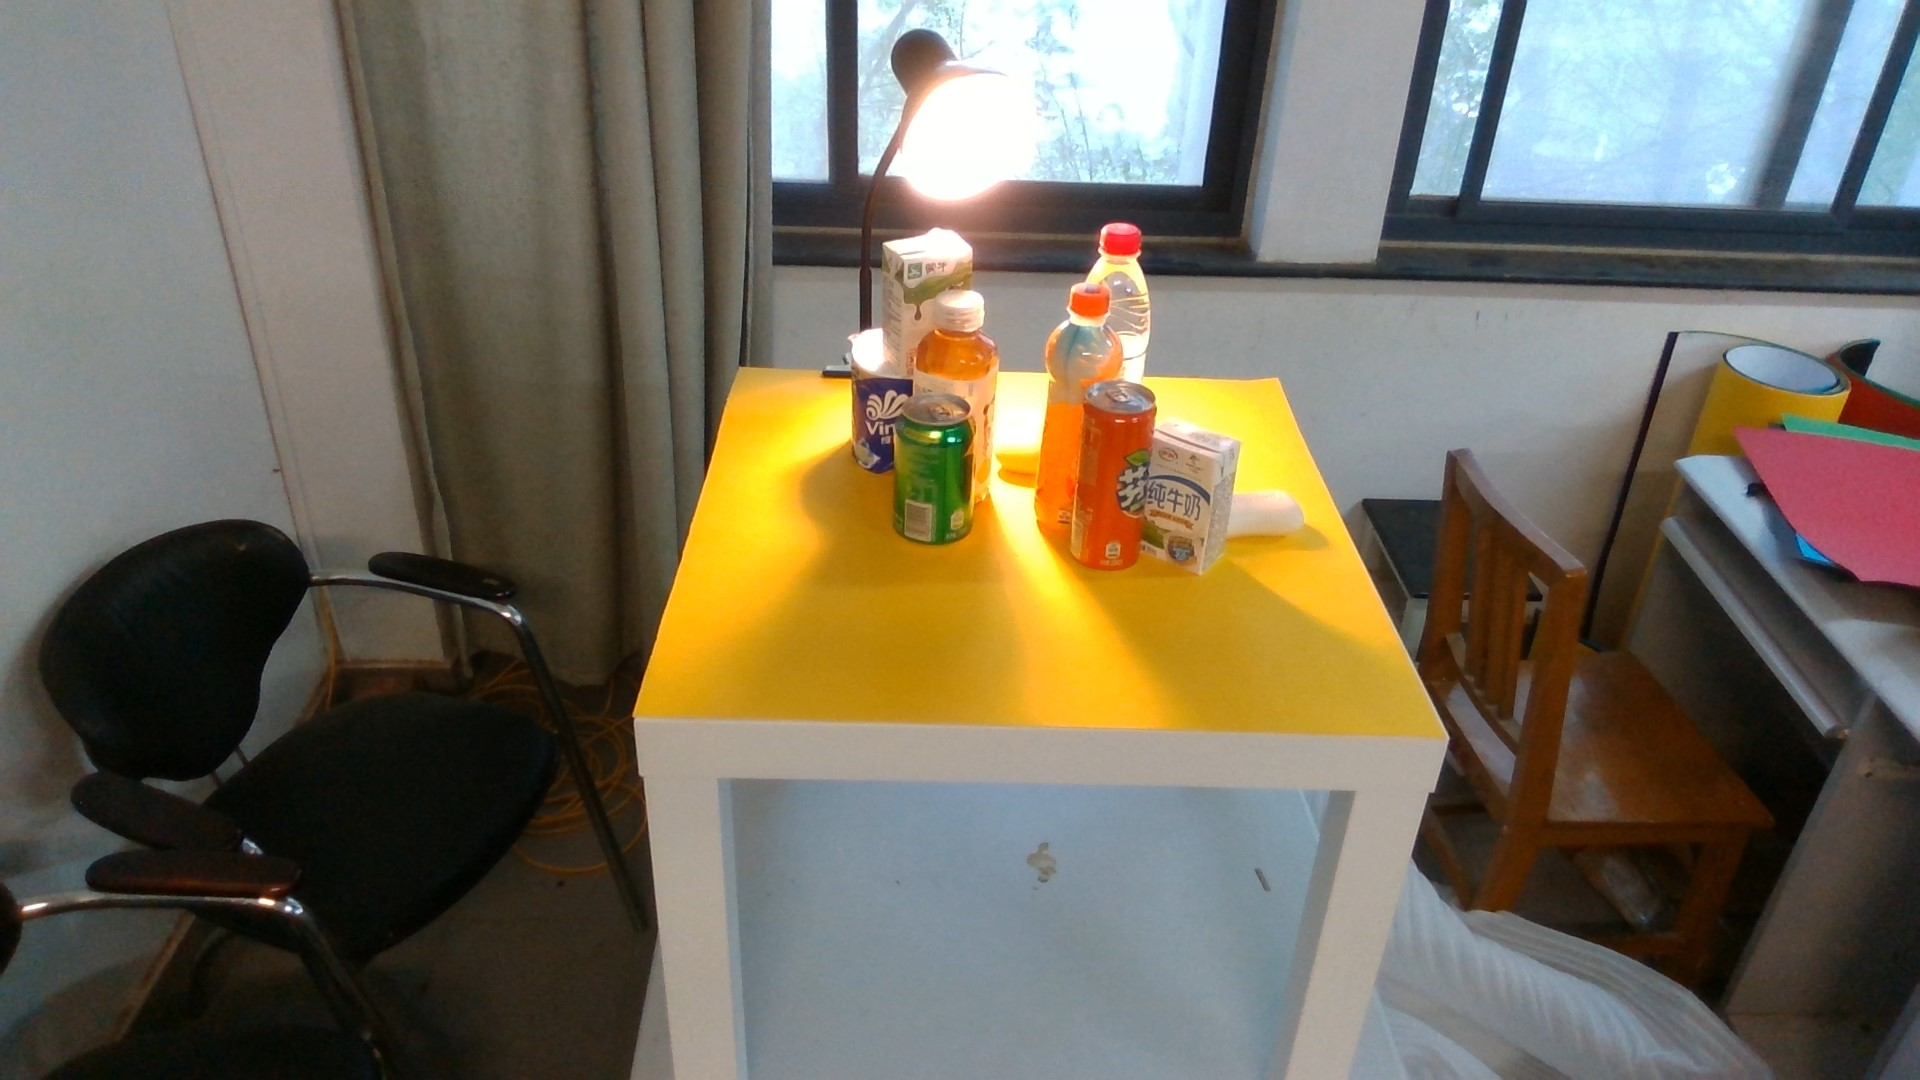BB003: (1232, 495, 1304, 538), (997, 431, 1044, 469)
BB009: (884, 225, 973, 287)
BB013: (1153, 410, 1233, 578)
CA002: (851, 364, 897, 473)
ZC001: (893, 394, 977, 546)
ZC003: (1073, 385, 1150, 571)
ZC006: (1044, 281, 1077, 527)
ZC012: (913, 291, 998, 392)
ZC014: (1112, 222, 1149, 338)
